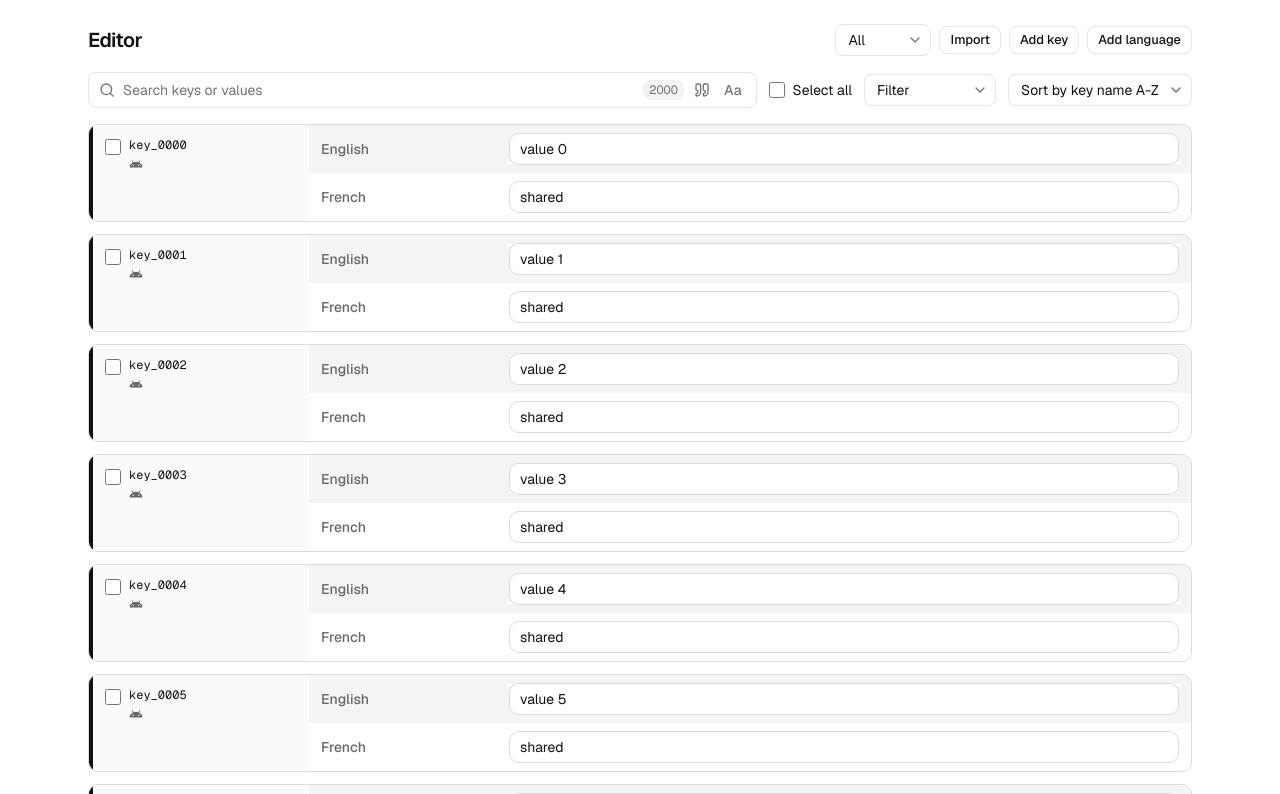
Test: editor screen › mounts only the cards in view and still selects every search match
The width and height of the screenshot is (1280, 794).
Expected: the text named "Matching keys" reads "2000", [649,82,678,98]
Expected: the checkbox named "Select key_" is shown, [105,139,121,155]
Click the checkbox labelled "Select all": (777, 90) [769,82,785,98]
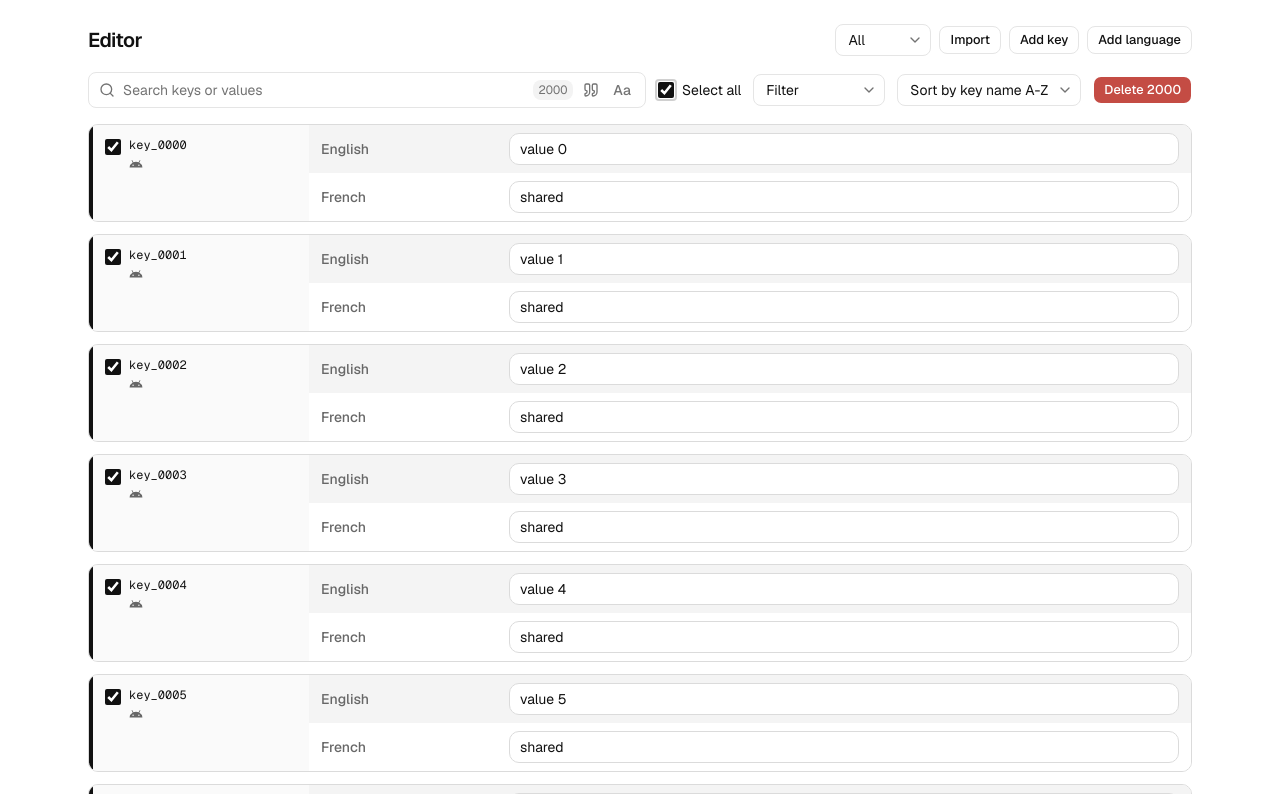
Now the button "Delete 2000" is shown, box [1093,76,1192,104]
In the field labelled "Search": (324, 90) [123,73,524,107], type "unique-tail"
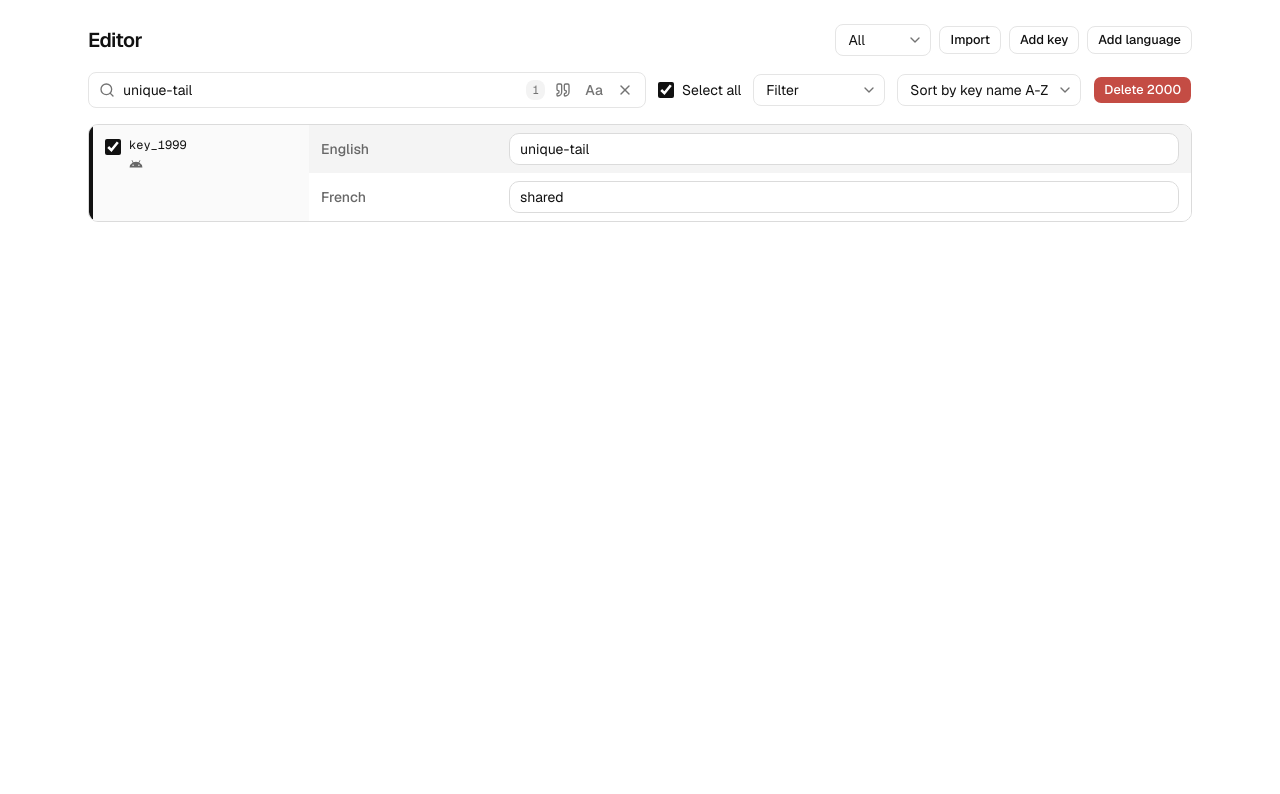
Expected: the number of checkboxes named "Select key_" is 1, [105,139,121,155]
Now the text named "Matching keys" reads "1", box [532,82,539,98]
Now the text "key_1999" is shown, box [129,137,187,153]
Click the checkbox labelled "Select all": (666, 90) [658,82,674,98]
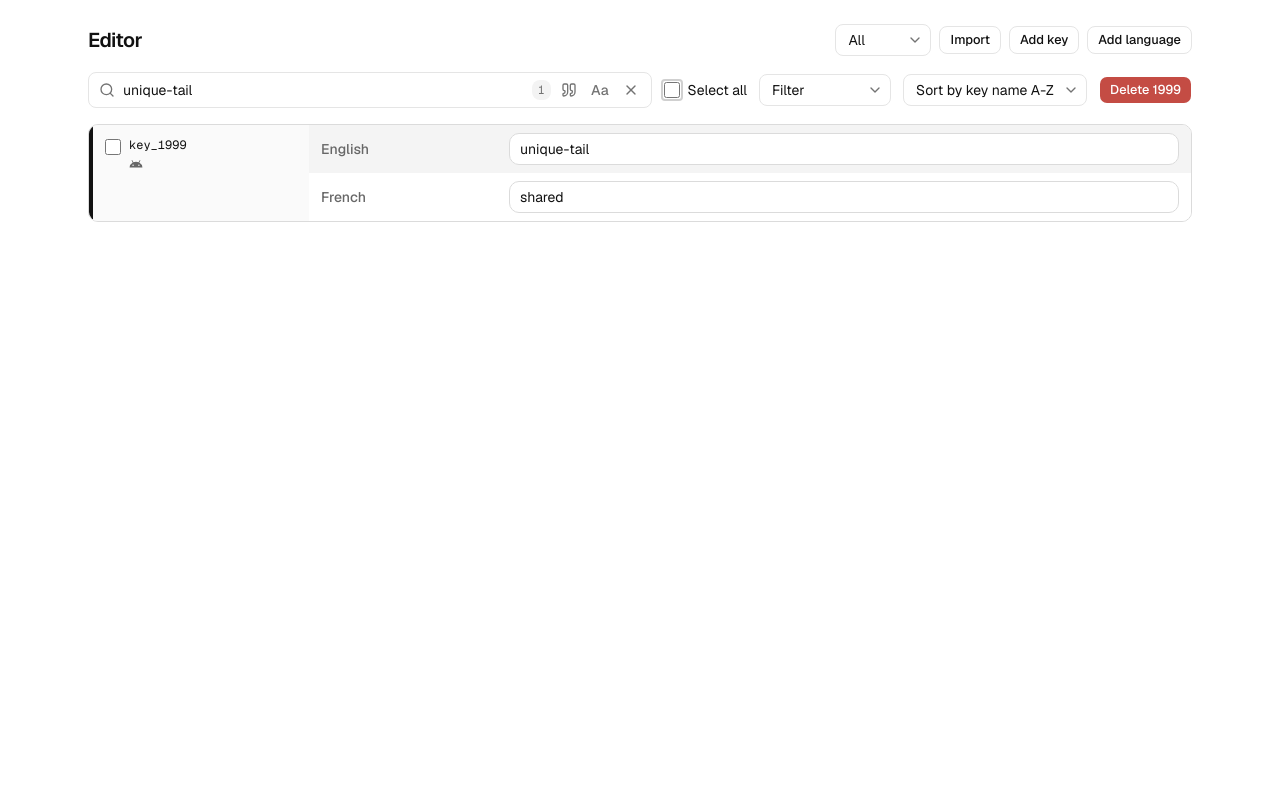
Now the button "Delete 1999" is shown, box [1099,76,1192,104]
